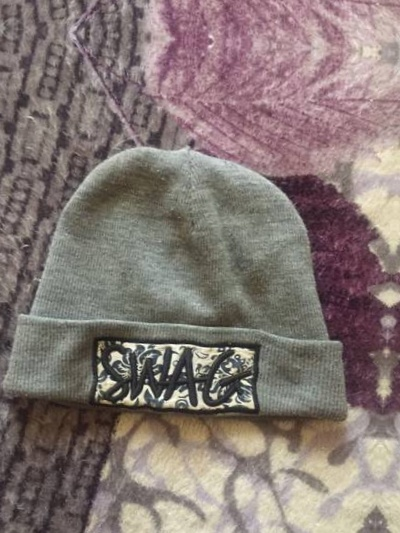Hat: (14, 125, 375, 453)
